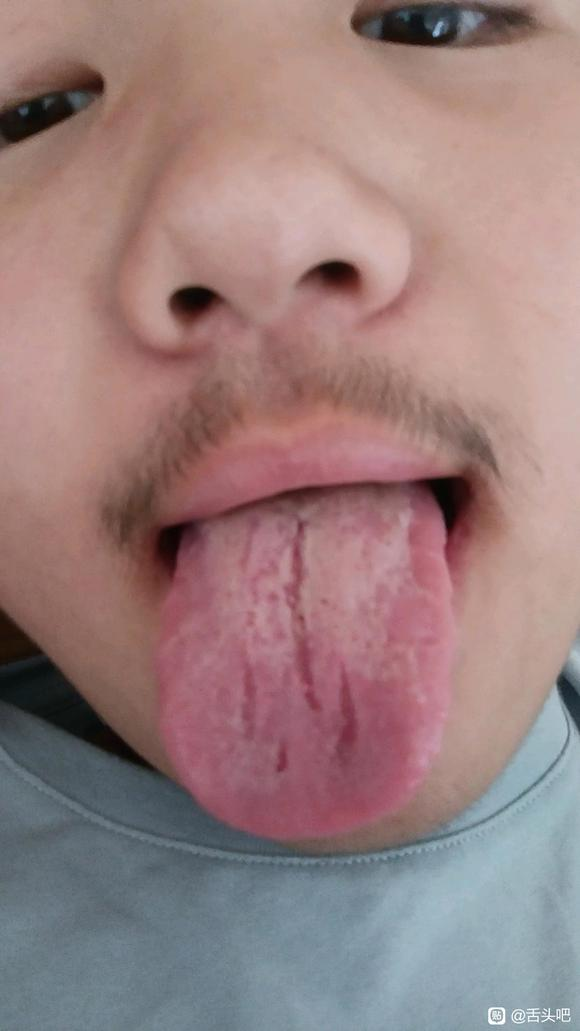baitaishe: (160, 482, 457, 841)
botaishe: (380, 487, 452, 651)
liewenshe: (239, 512, 357, 779)
